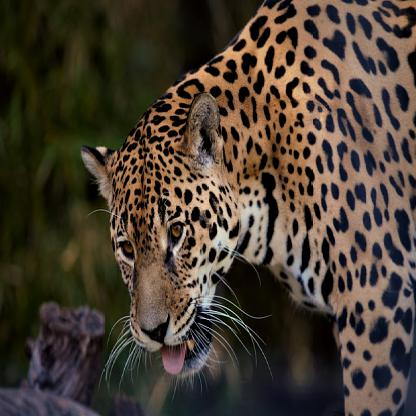cat: (80, 0, 416, 415)
